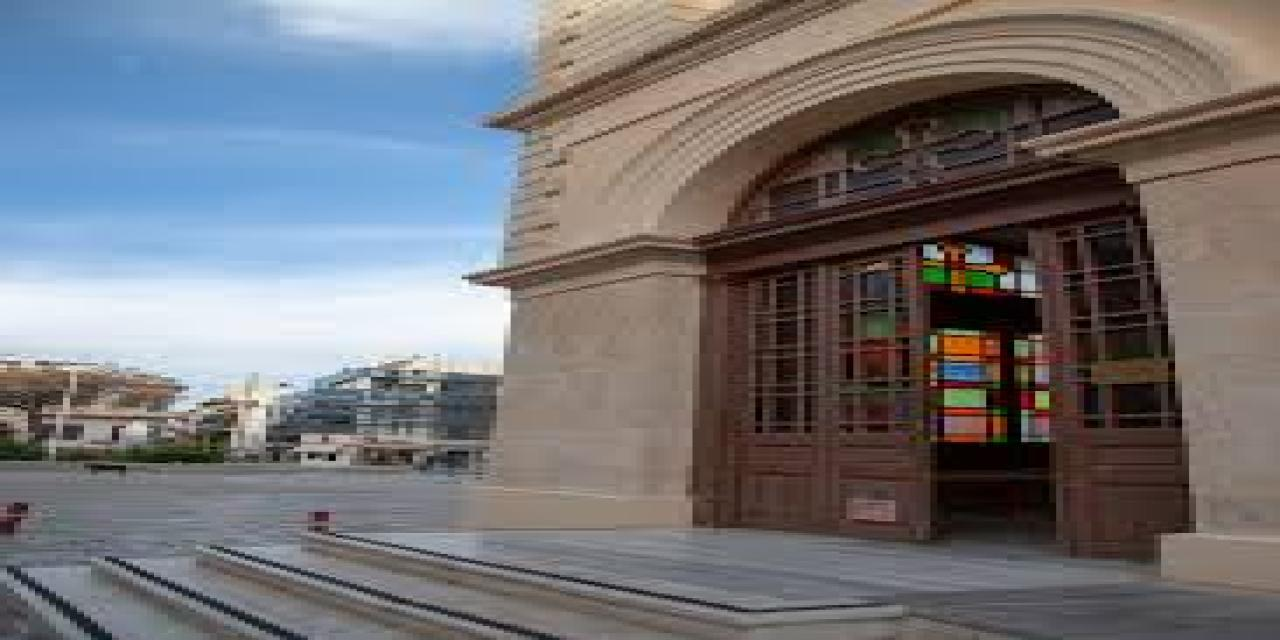Agios Minas: (433, 2, 1280, 608)
